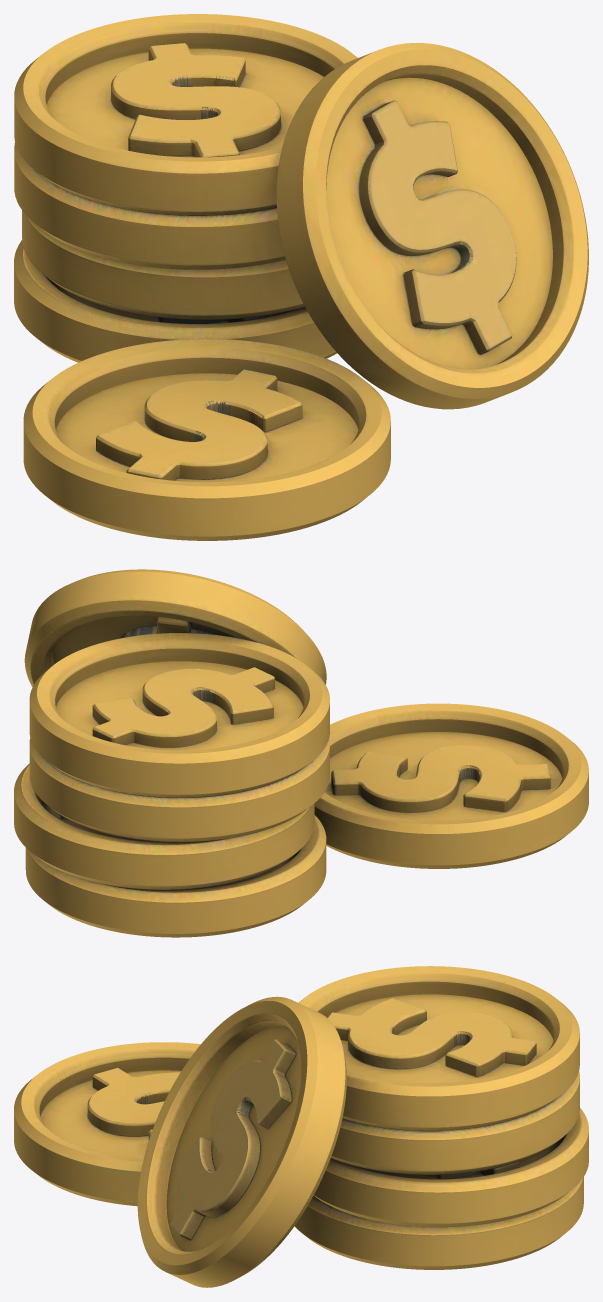
Rendered from coins-transformed.glb.
3 views of the same model, one above another, from view 1: azimuth 30°, elevation 25°; view 2: azimuth 150°, elevation 25°; view 3: azimuth 270°, elevation 25° (orthographic). The views are drawn at different scales.
Visible parts, largest first — view 1: Object_2; view 2: Object_2; view 3: Object_2.
Boxes of the visible parts, x1,y1,x2,y2 form: Object_2: (14,14,588,540); Object_2: (14,569,588,937); Object_2: (14,966,588,1287).
Size of the model in its own units: 11.44 by 5.58 by 11.81.
1 material, 1 textured.
